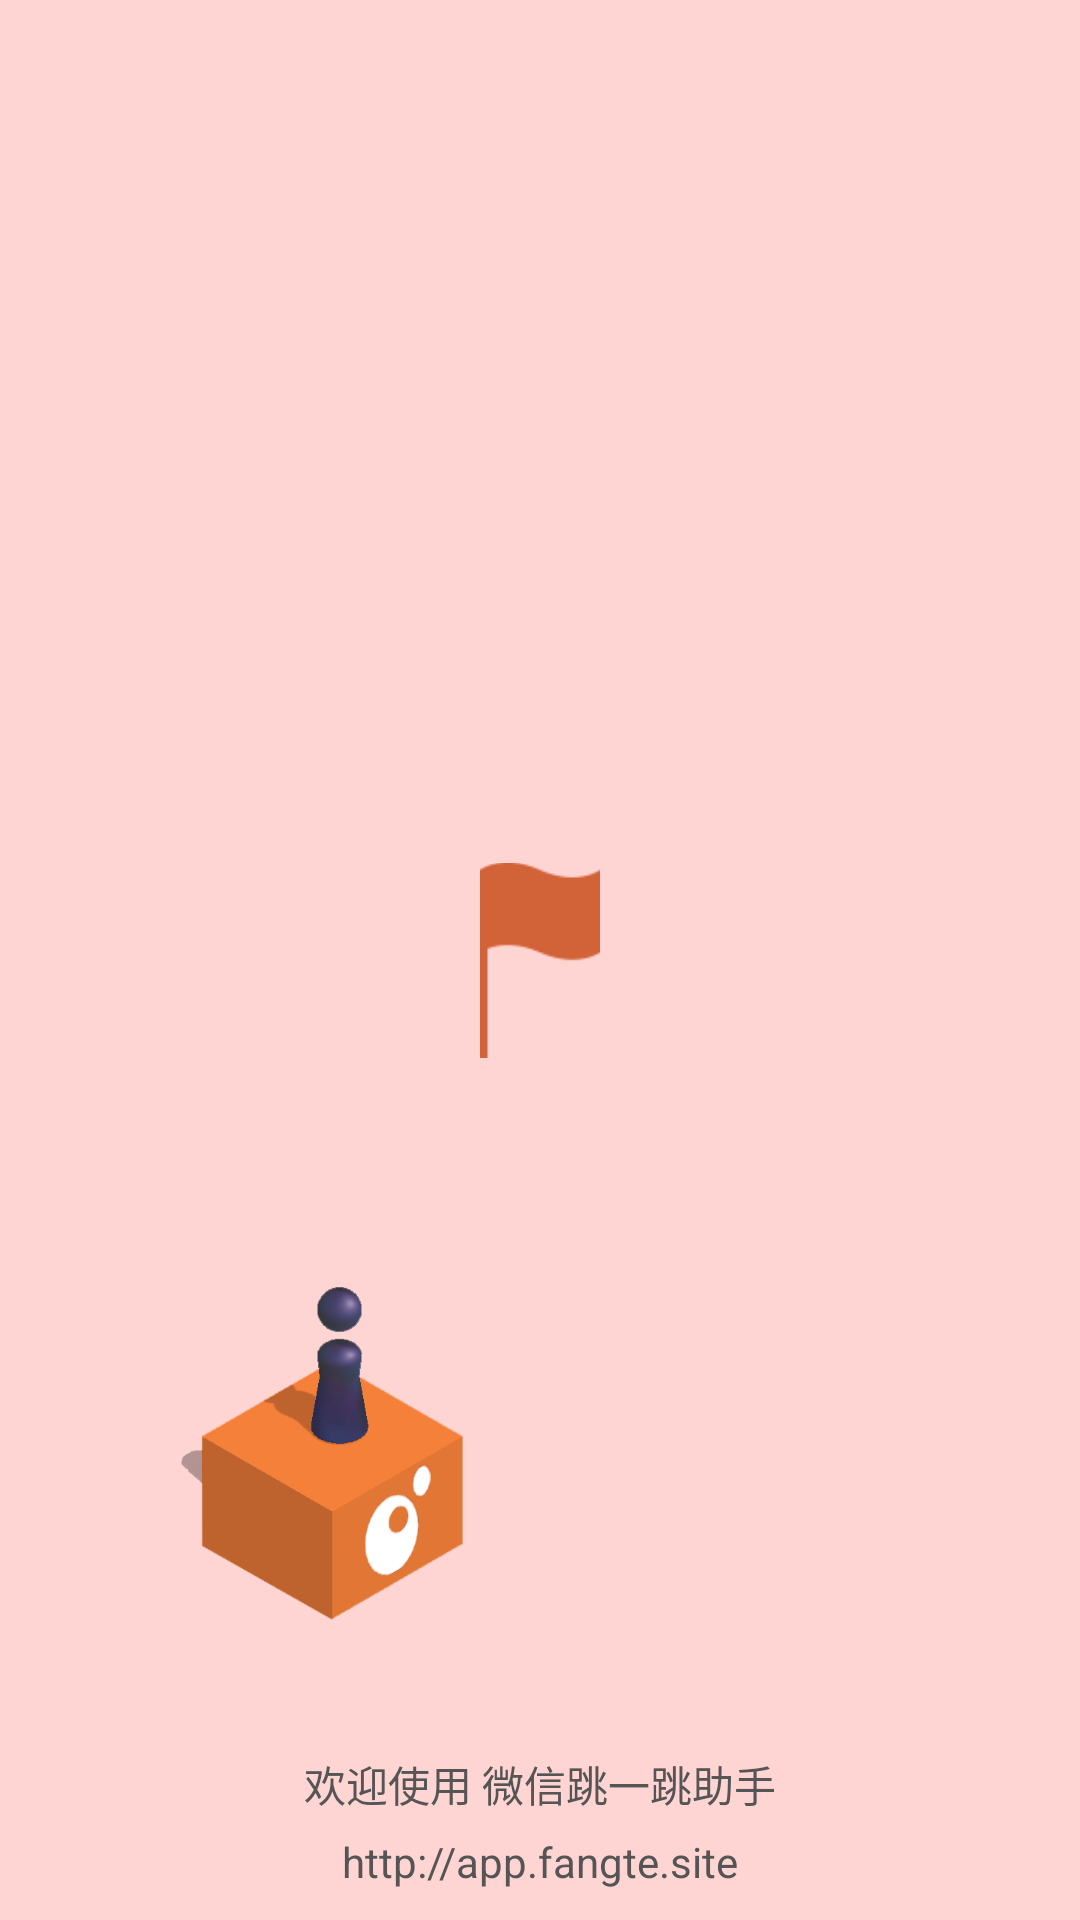

Icon click points for this 1080px×1920px phone screenshot, format (x=x, y=y):
flag: (x=540, y=960)
